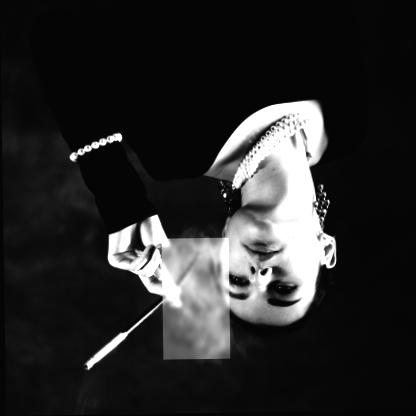smoke: (161, 238, 229, 360)
